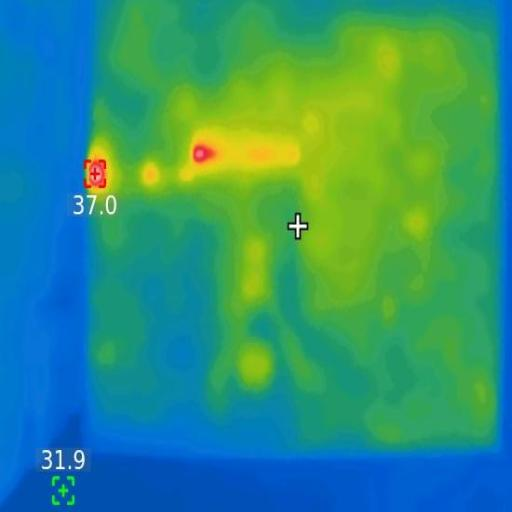hotspot: (84, 160, 109, 190), (191, 142, 216, 164)
